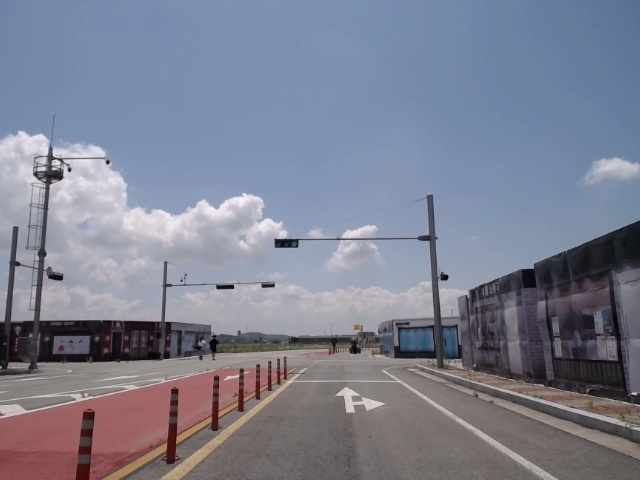green_3: (274, 239, 298, 248)
